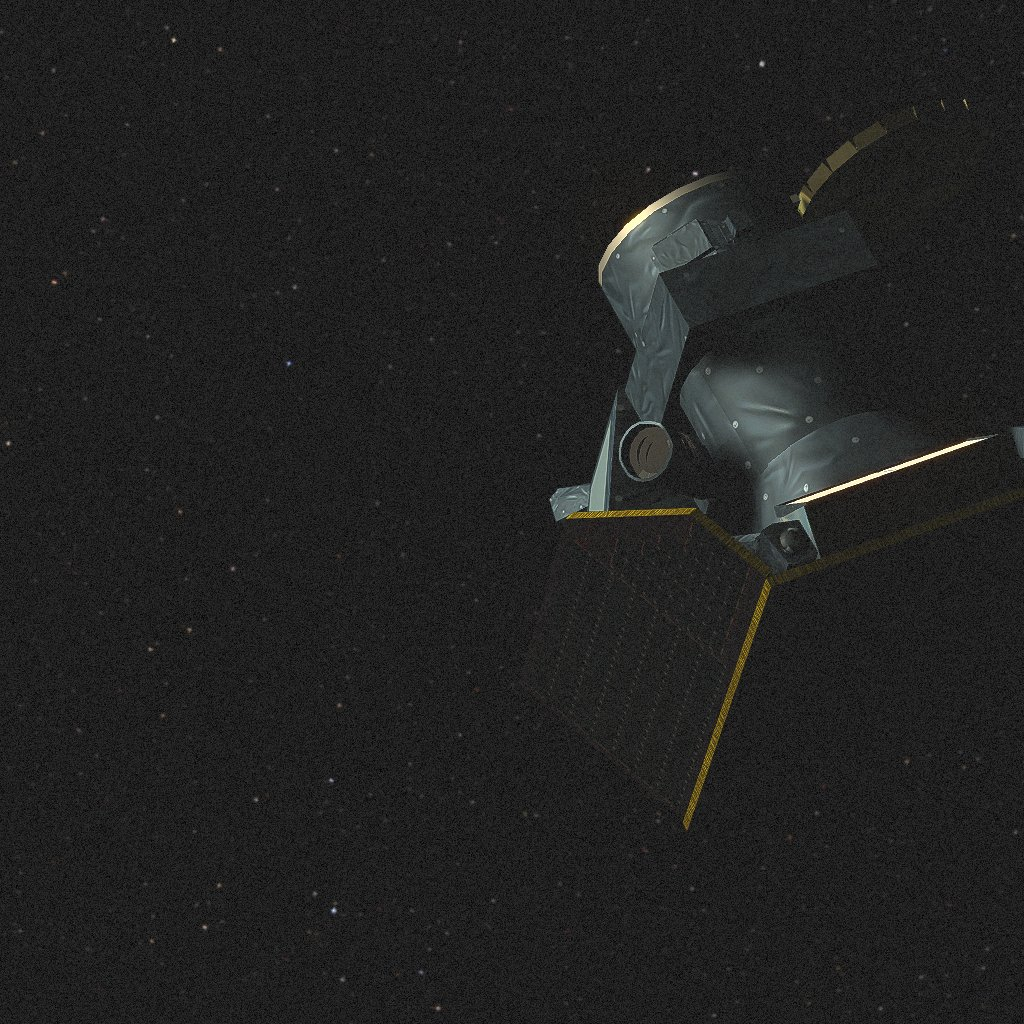cheops: (519, 99, 1024, 831)
